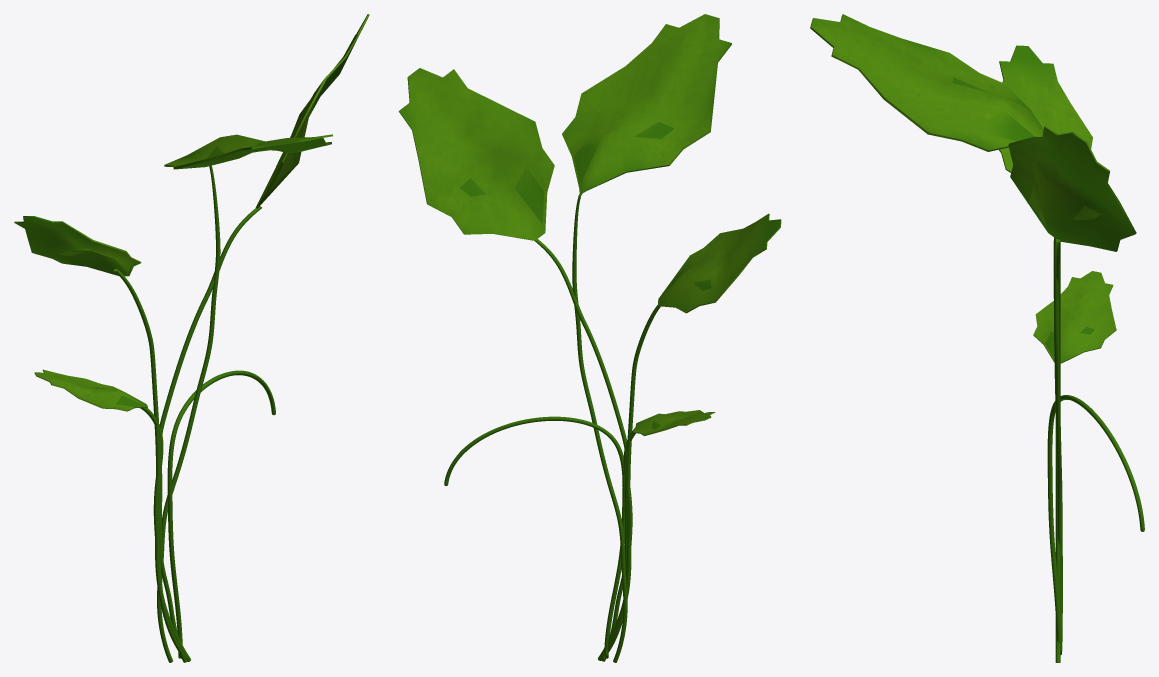
File: eggplant1.fbx
3 renders of one model, left to right at view 1: azimuth 30°, elevation 25°; view 2: azimuth 150°, elevation 25°; view 3: azimuth 270°, elevation 25°, orthographic. The views are drawn at different scales.
Visible parts, largest first — view 1: eggplant_st1; view 2: eggplant_st1; view 3: eggplant_st1.
Boxes of the visible parts, <box> form: eggplant_st1: <box>14,14,369,662</box>; eggplant_st1: <box>398,14,781,662</box>; eggplant_st1: <box>810,14,1144,662</box>.
Size of the model in its own units: 0.2585 by 0.4021 by 0.1907.
1 material, 1 textured.
